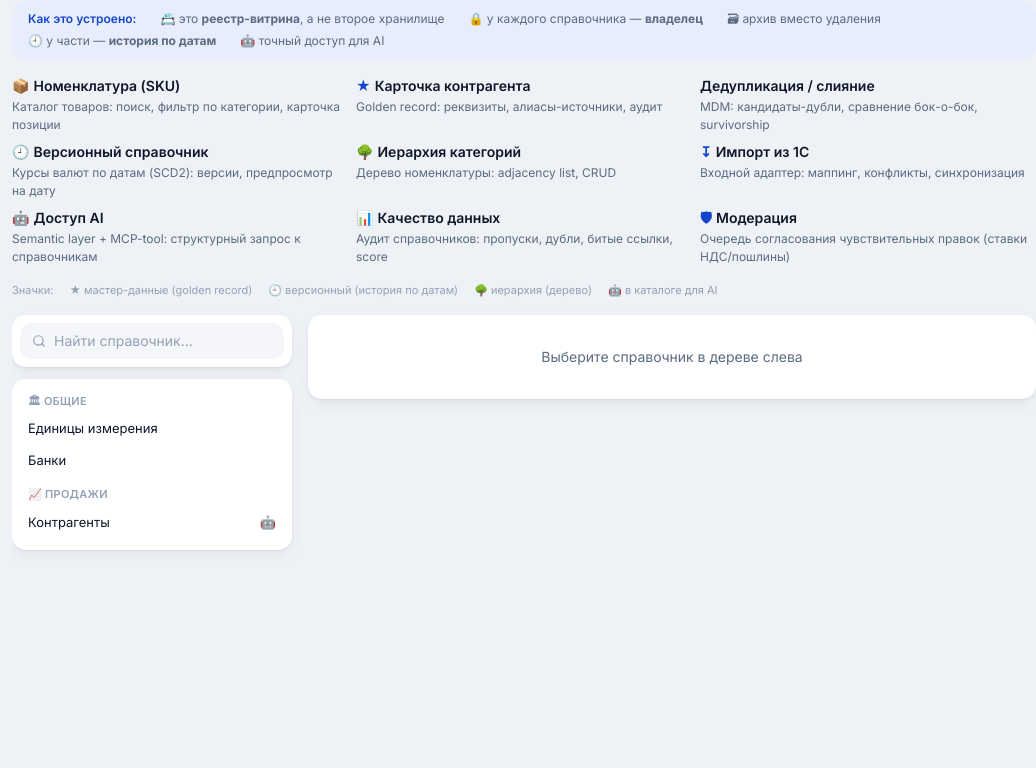
Scenario: SpravCatalog › ошибка загрузки строк (не-200) деградирует в «Нет данных», а не падает
The image size is (1036, 768).
Step 1. Click the button "Банки" → (47, 460), box [20, 444, 284, 476]
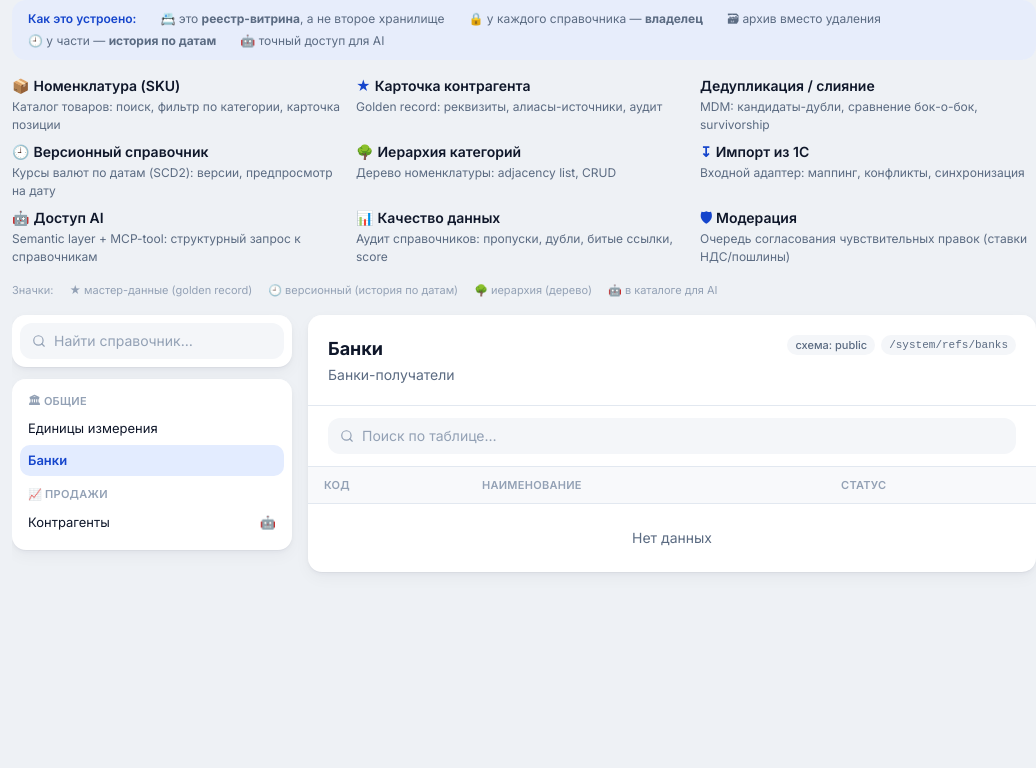
Expected: the heading "Банки" is shown, [328, 338, 383, 358]
Expected: the text "Нет данных" is shown, [308, 503, 1035, 572]
